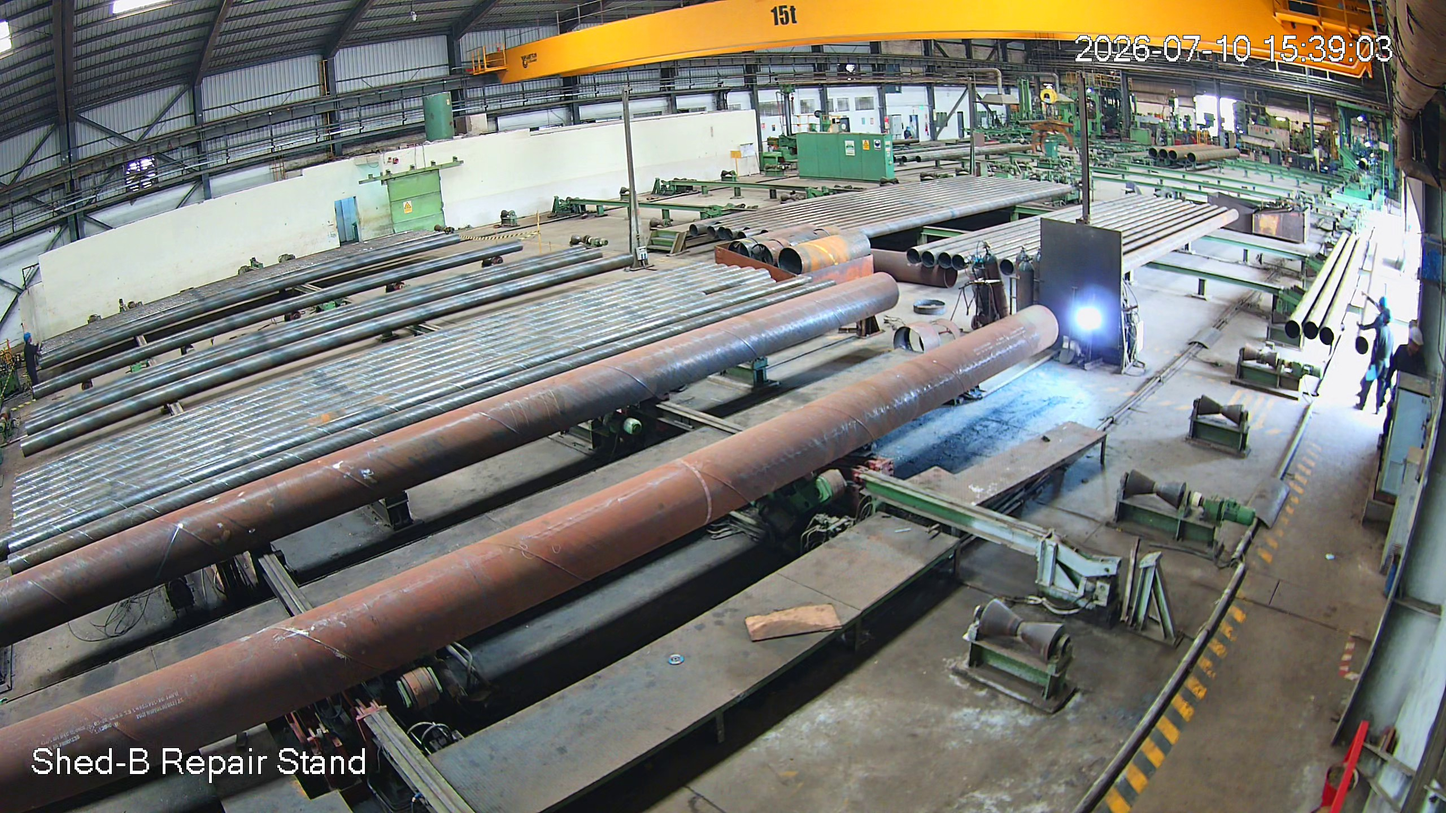Helmet: (1380, 283, 1396, 327)
Person: (1376, 294, 1398, 413)
